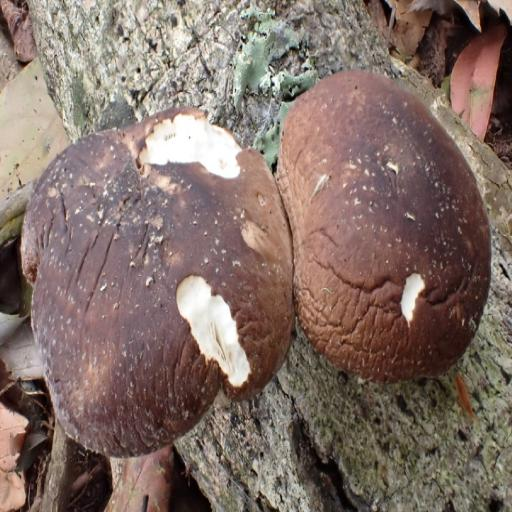Shiitake Mushroom: (0, 50, 512, 466)
